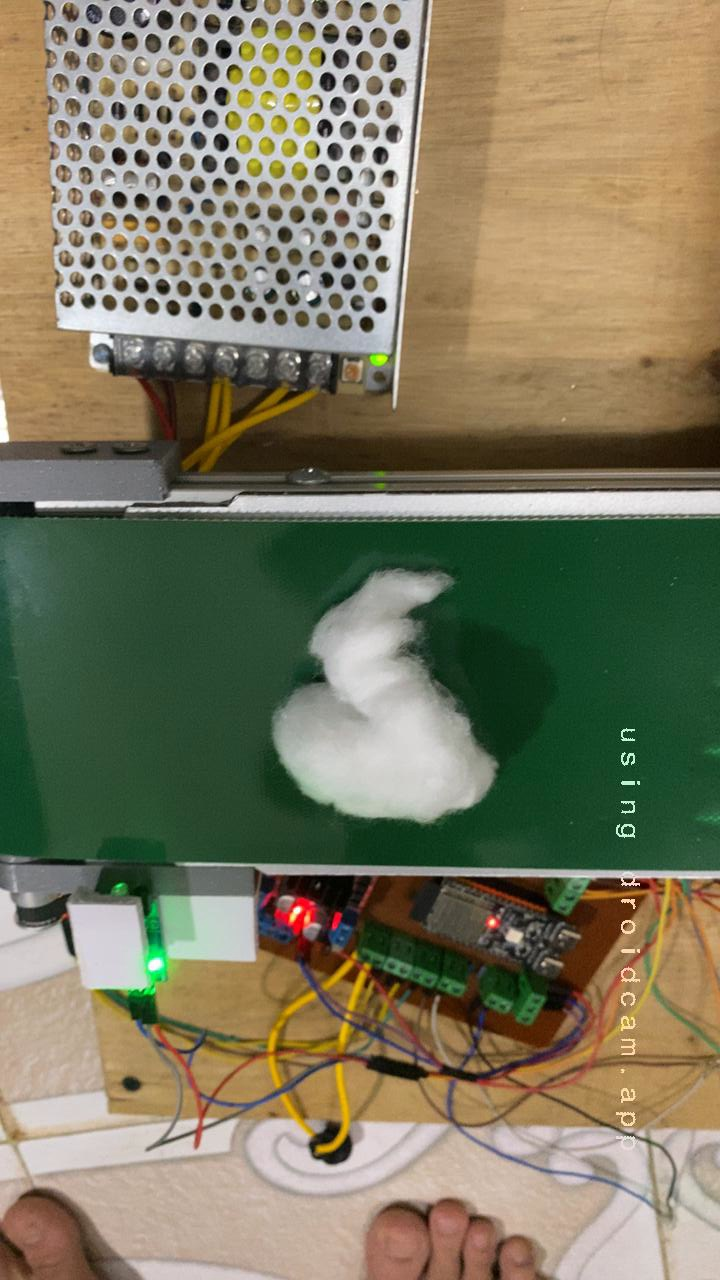cotton: (245, 535, 519, 855)
